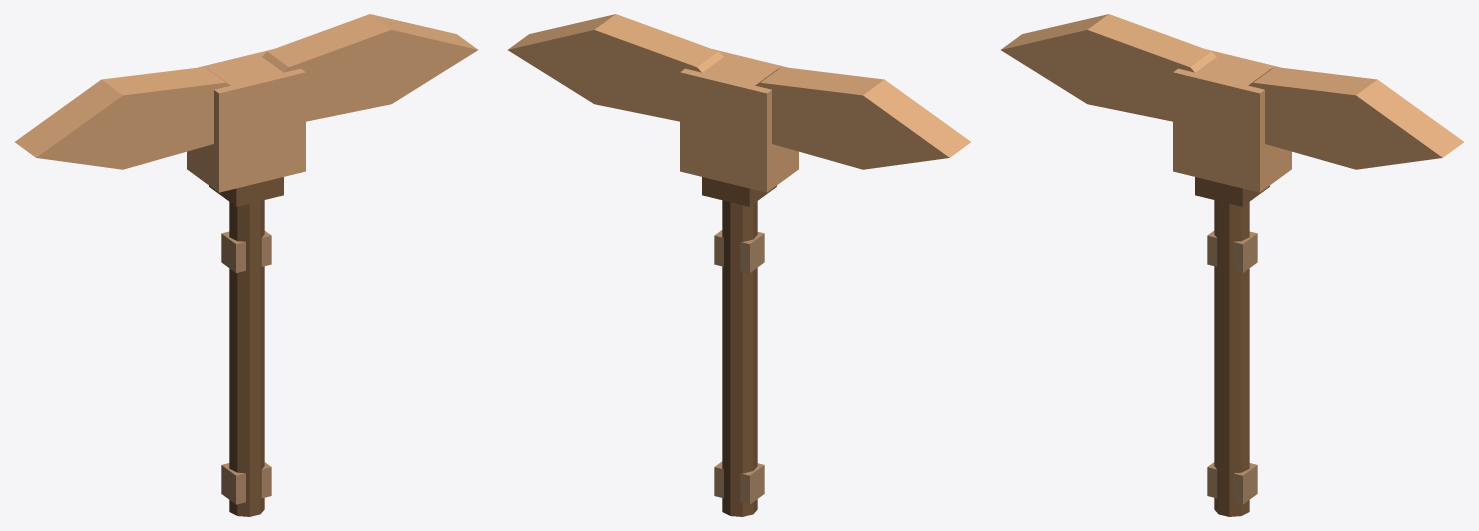
The model's file is copperPickaxe.glb.
The picture shows the model from 3 angles, left to right: view 1: azimuth 30°, elevation 25°; view 2: azimuth 150°, elevation 25°; view 3: azimuth 330°, elevation 25°; orthographic projection.
Parts seen in each view (by area): view 1: PickaxeHead, PickaxeCollar, Handle, GripWrapHigh, GripWrapLow, ToolHeadSocket; view 2: PickaxeHead, PickaxeCollar, Handle, GripWrapLow, GripWrapHigh, ToolHeadSocket; view 3: PickaxeHead, PickaxeCollar, Handle, GripWrapHigh, GripWrapLow, ToolHeadSocket.
Part boxes in pixels (x1,y1,x2,y2): PickaxeHead: (15, 14, 477, 169); PickaxeCollar: (187, 49, 305, 192); Handle: (229, 200, 264, 516); GripWrapHigh: (221, 231, 271, 272); GripWrapLow: (221, 462, 271, 504); ToolHeadSocket: (209, 177, 283, 206); PickaxeHead: (508, 14, 970, 169); PickaxeCollar: (680, 49, 798, 192); Handle: (722, 200, 757, 516); GripWrapLow: (714, 461, 764, 504); GripWrapHigh: (714, 230, 764, 272); ToolHeadSocket: (702, 177, 776, 206); PickaxeHead: (1001, 14, 1463, 169); PickaxeCollar: (1173, 49, 1291, 192); Handle: (1214, 200, 1249, 516); GripWrapHigh: (1207, 231, 1257, 272); GripWrapLow: (1207, 462, 1257, 504); ToolHeadSocket: (1195, 177, 1269, 206).
Bounding box in the file's own units: 1.12 × 1.1 × 0.14.
